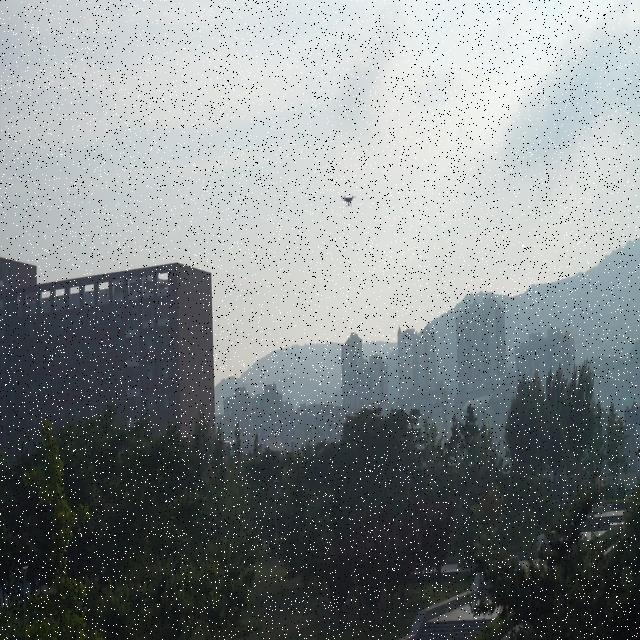UAV: (341, 195, 357, 207)
